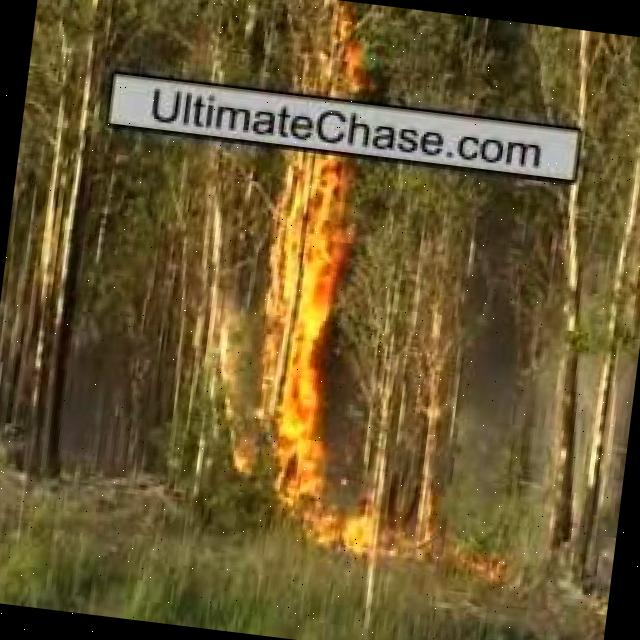fire: (246, 154, 372, 444), (250, 451, 392, 564), (310, 13, 367, 103)
